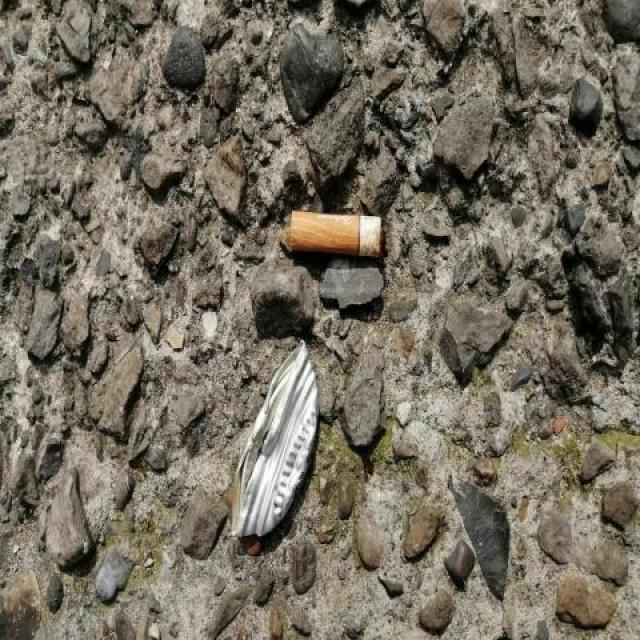non-organic waste: (285, 205, 391, 266)
